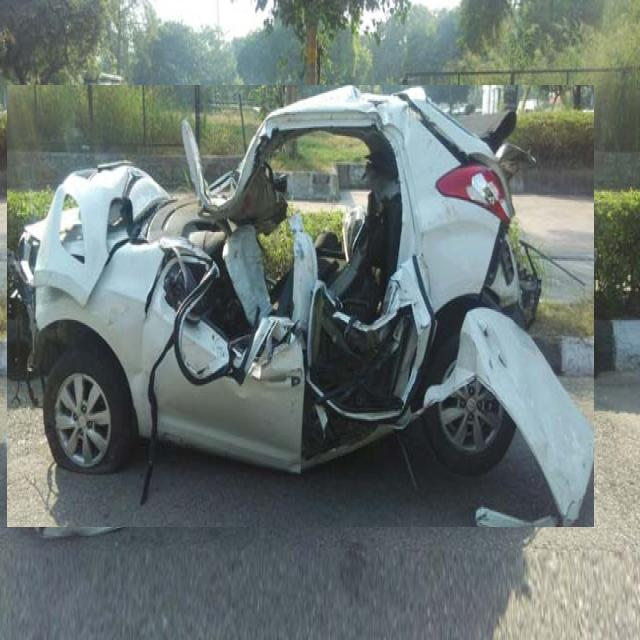accident: (8, 86, 594, 527)
